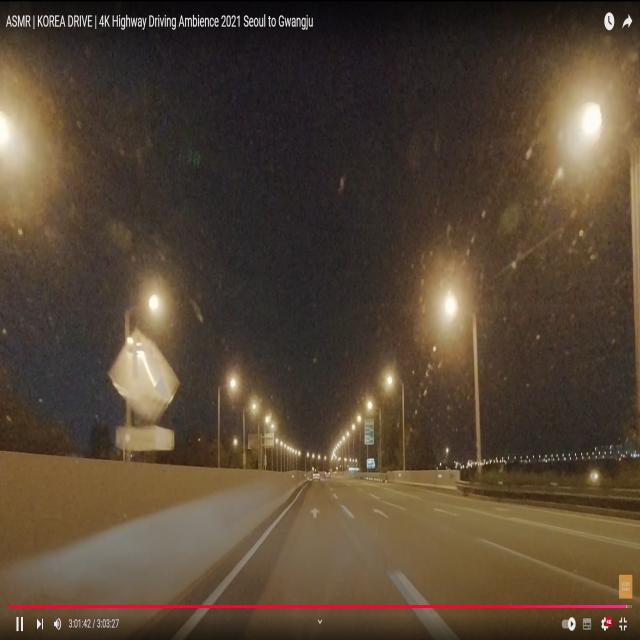forward: (260, 503, 360, 533)
